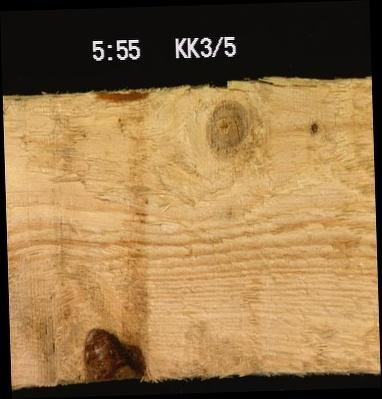small_knot: (306, 118, 322, 136)
sound_knot: (202, 93, 269, 169)
